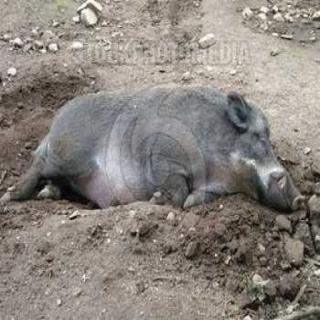Pig: (22, 64, 310, 236)
